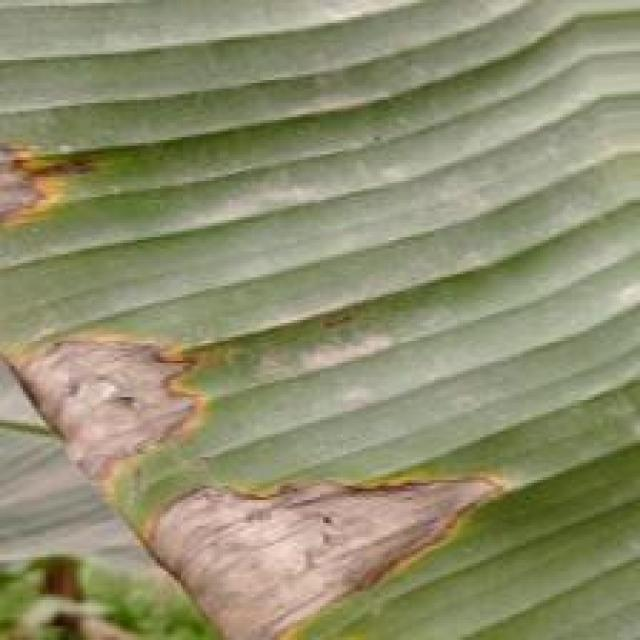Bacterial_spot: (133, 460, 518, 637), (0, 328, 221, 489), (0, 134, 111, 264)
